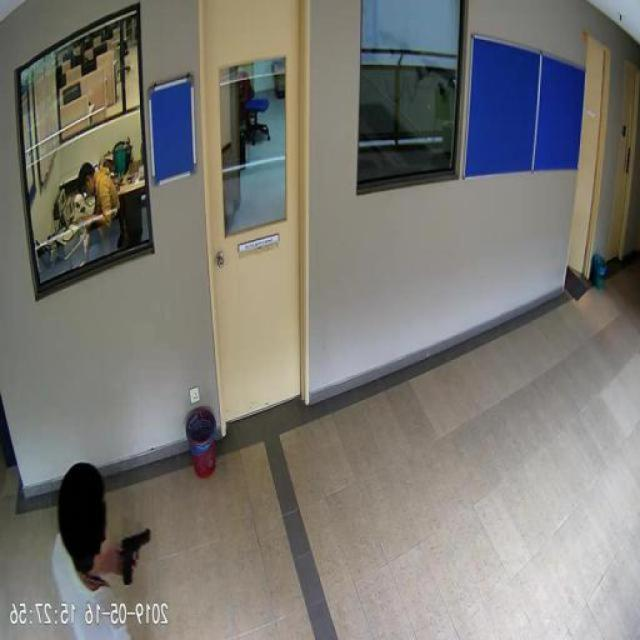pistol: (122, 526, 153, 584)
